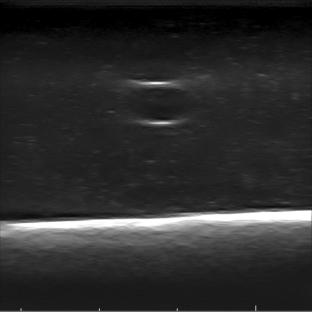vessel: (122, 81, 198, 128)
